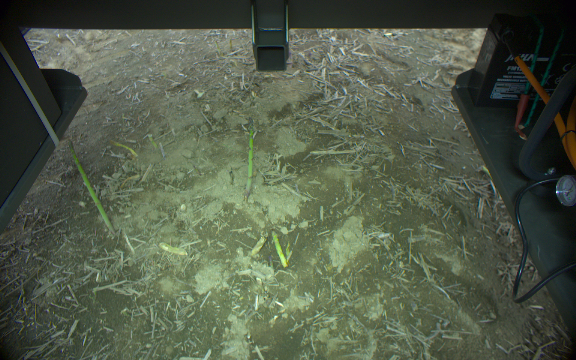aspa: (68, 139, 118, 236), (108, 135, 139, 158), (270, 228, 287, 268), (246, 115, 254, 198)
